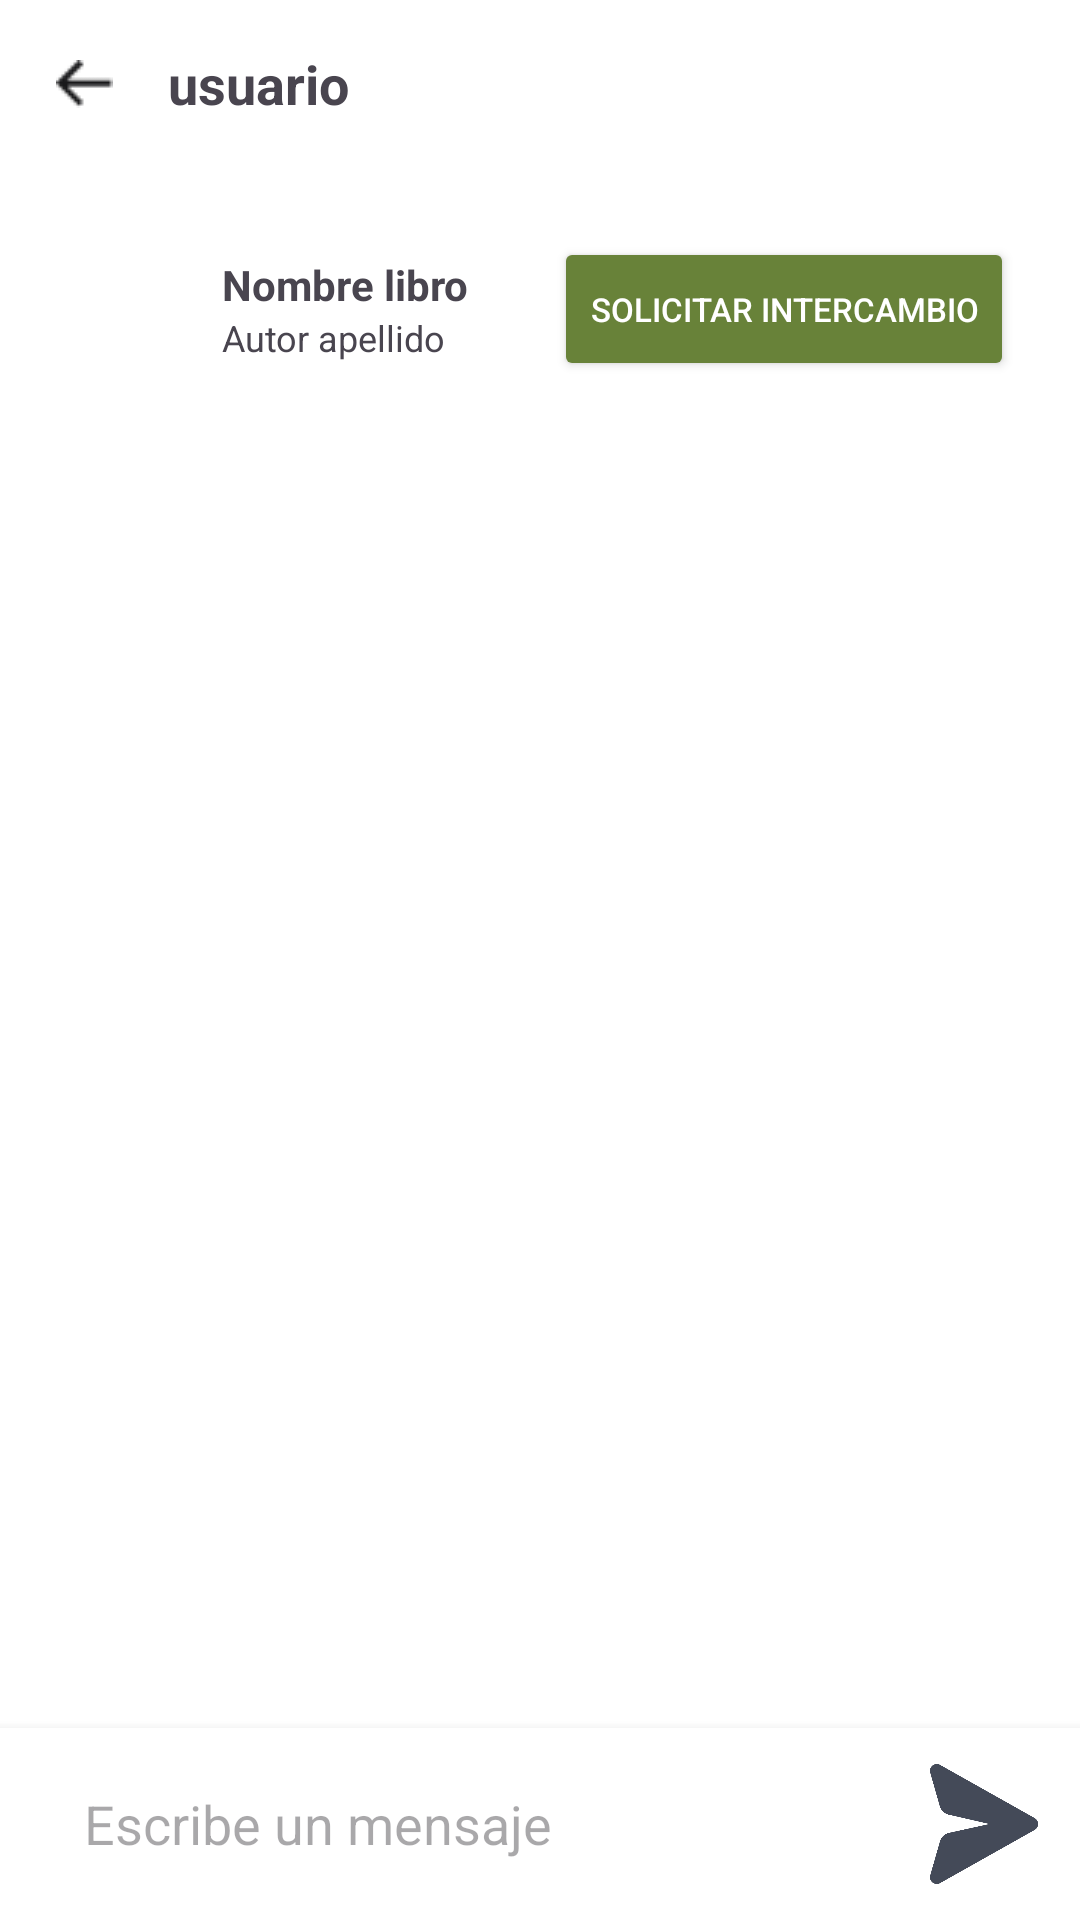

Icons on this 1080x1920 Android screen, each with the point to tap as [x,y]:
Enviar: [984,1824]
Volver: [84,83]
